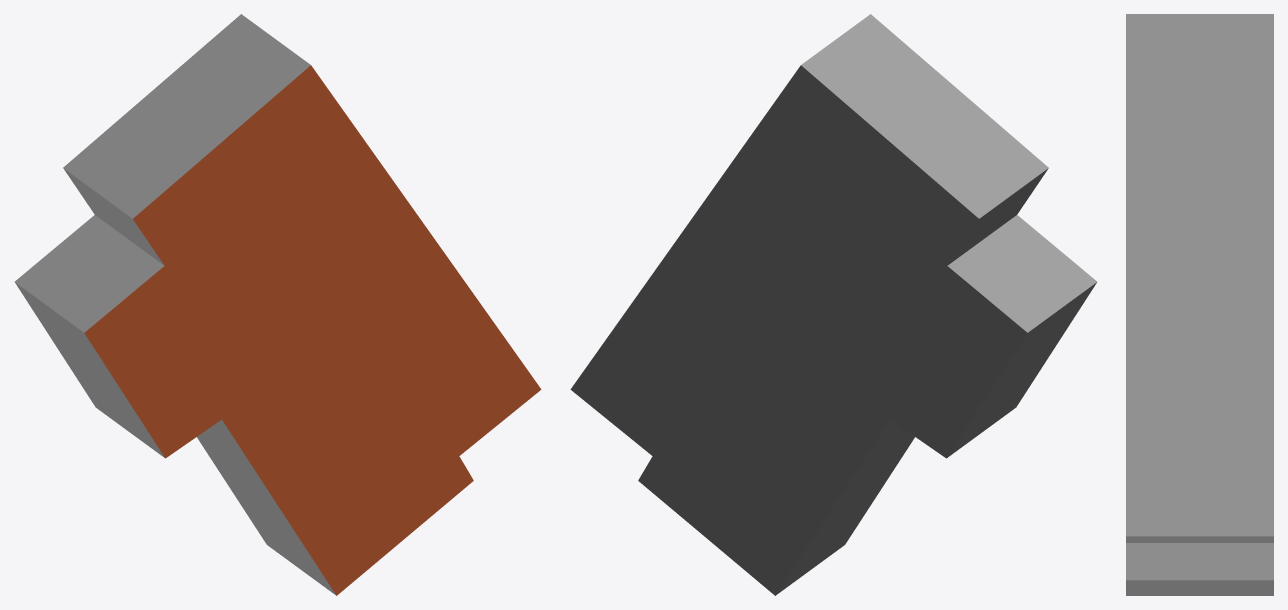
File: construction_3811_assumed_A_Casa_h6m.obj
3 renders of one model, left to right at view 1: azimuth 30°, elevation 25°; view 2: azimuth 150°, elevation 25°; view 3: azimuth 270°, elevation 25°, orthographic. The views are drawn at different scales.
Parts seen in each view (by area): view 1: construction_3811_assumed_A_Casa; view 2: construction_3811_assumed_A_Casa; view 3: construction_3811_assumed_A_Casa.
Part boxes in pixels (x1=…): construction_3811_assumed_A_Casa: x1=14, y1=14, x2=541, y2=595; construction_3811_assumed_A_Casa: x1=570, y1=14, x2=1097, y2=595; construction_3811_assumed_A_Casa: x1=1126, y1=14, x2=1273, y2=595.
Bounding box in the file's own units: 22.68 × 25.46 × 6.
